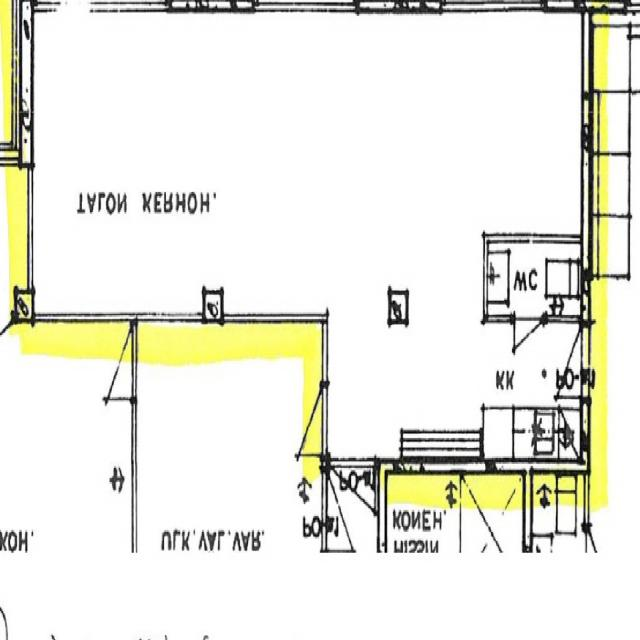door: (540, 326, 590, 398), (284, 383, 334, 454), (336, 457, 375, 540), (514, 314, 546, 377)
